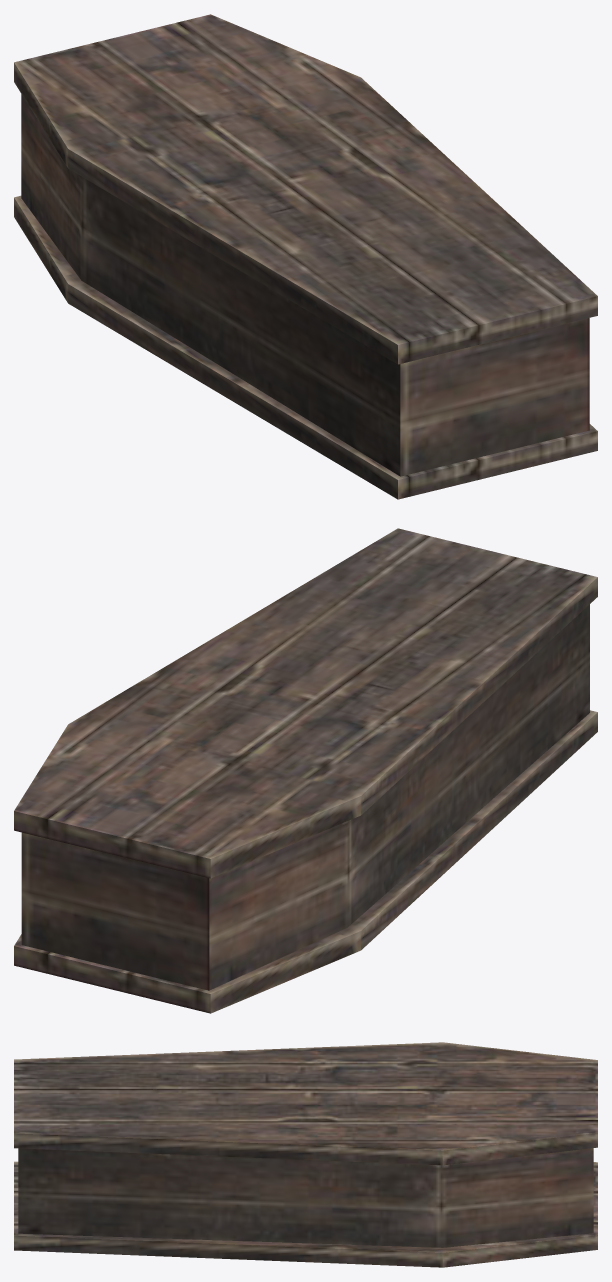
Rendered from Coffin01.fbx.
3 views of the same model, one above another, from view 1: azimuth 30°, elevation 25°; view 2: azimuth 150°, elevation 25°; view 3: azimuth 270°, elevation 25° (orthographic). The views are drawn at different scales.
Visible parts, largest first — view 1: Coffin01; view 2: Coffin01; view 3: Coffin01.
Part boxes in pixels (left/top/right/bottom): Coffin01: left=14, top=14, right=597, bottom=499; Coffin01: left=14, top=528, right=597, bottom=1013; Coffin01: left=14, top=1042, right=597, bottom=1267.
Size of the model in its own units: 18.38 by 9.27 by 41.9.
